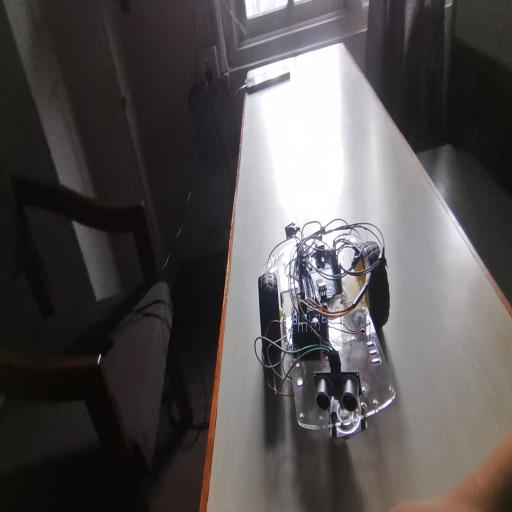car: (245, 152, 407, 447)
